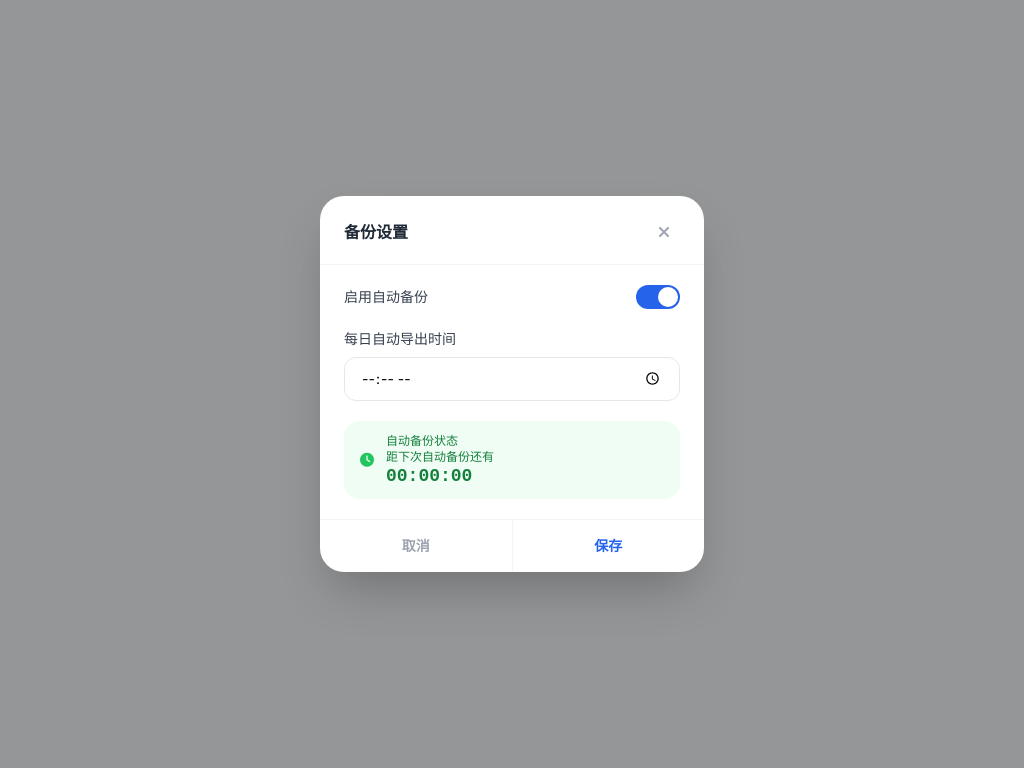
Test: BackupSettingsModal - Auto Backup Toggle Feature › Validation Behavior with Toggle › still validates time format when auto backup is enabled
Click the button "保存": click(608, 546) [512,520,704,572]
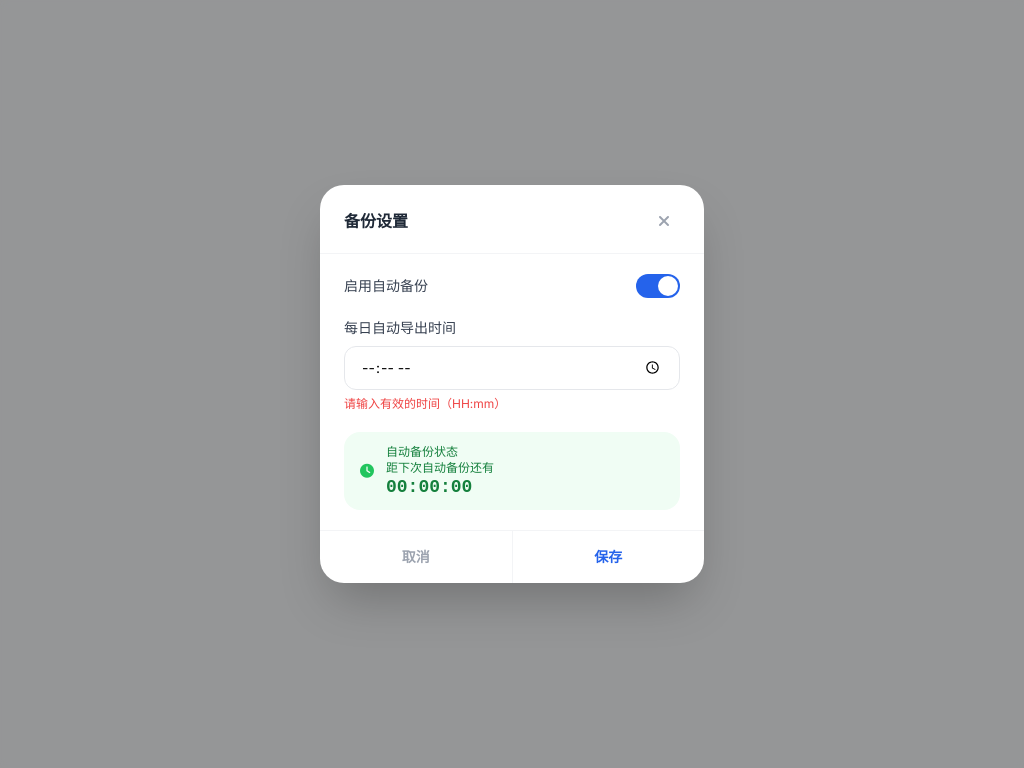
Now the text "请输入有效的时间（HH:mm）" is shown, box [344,396,506,411]
